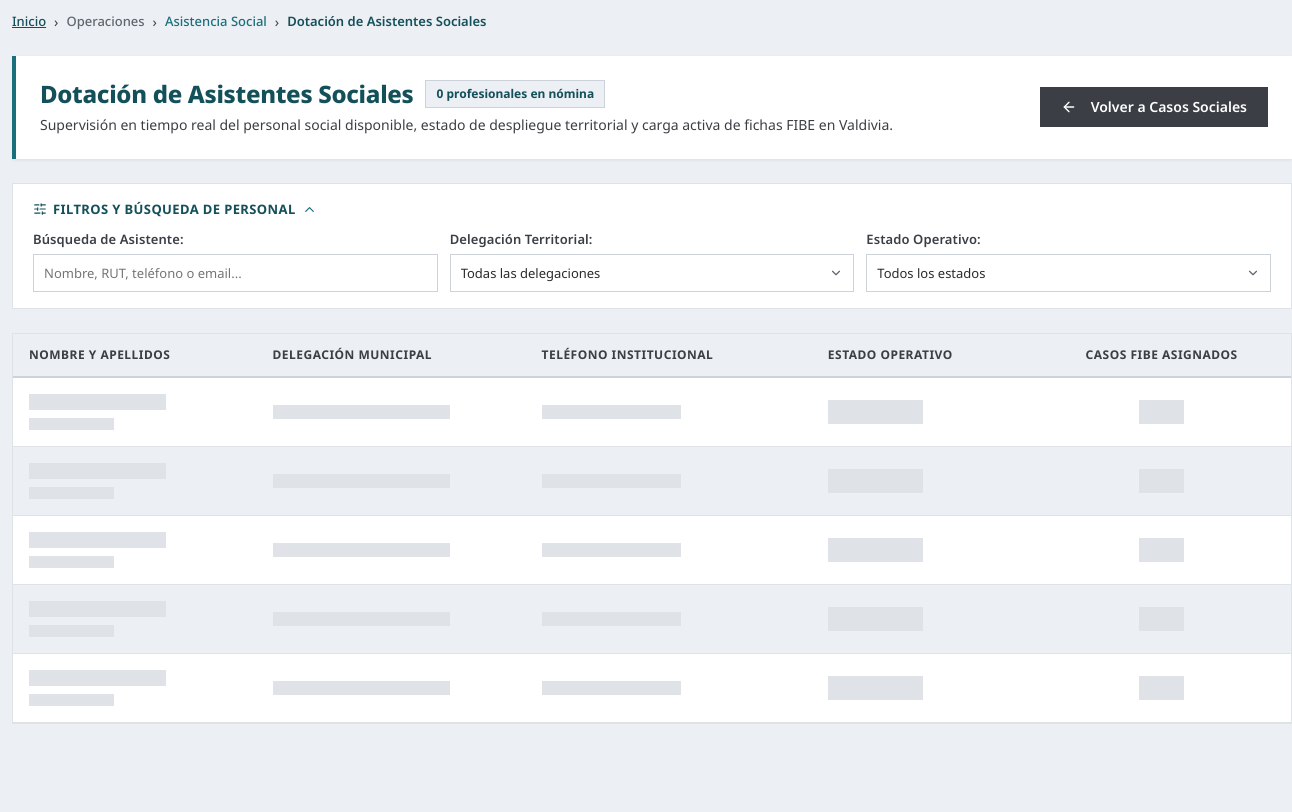
Test: AsistentesSocialesClient › debe mostrar EmptyState con opción de restablecer filtros si no hay coincidencias con filtros
The image size is (1292, 812).
# Aplicar búsqueda
Type "Inexistente" into the field with placeholder "Nombre, RUT, teléfono o email..." at (235, 273), box [33,254,438,292]
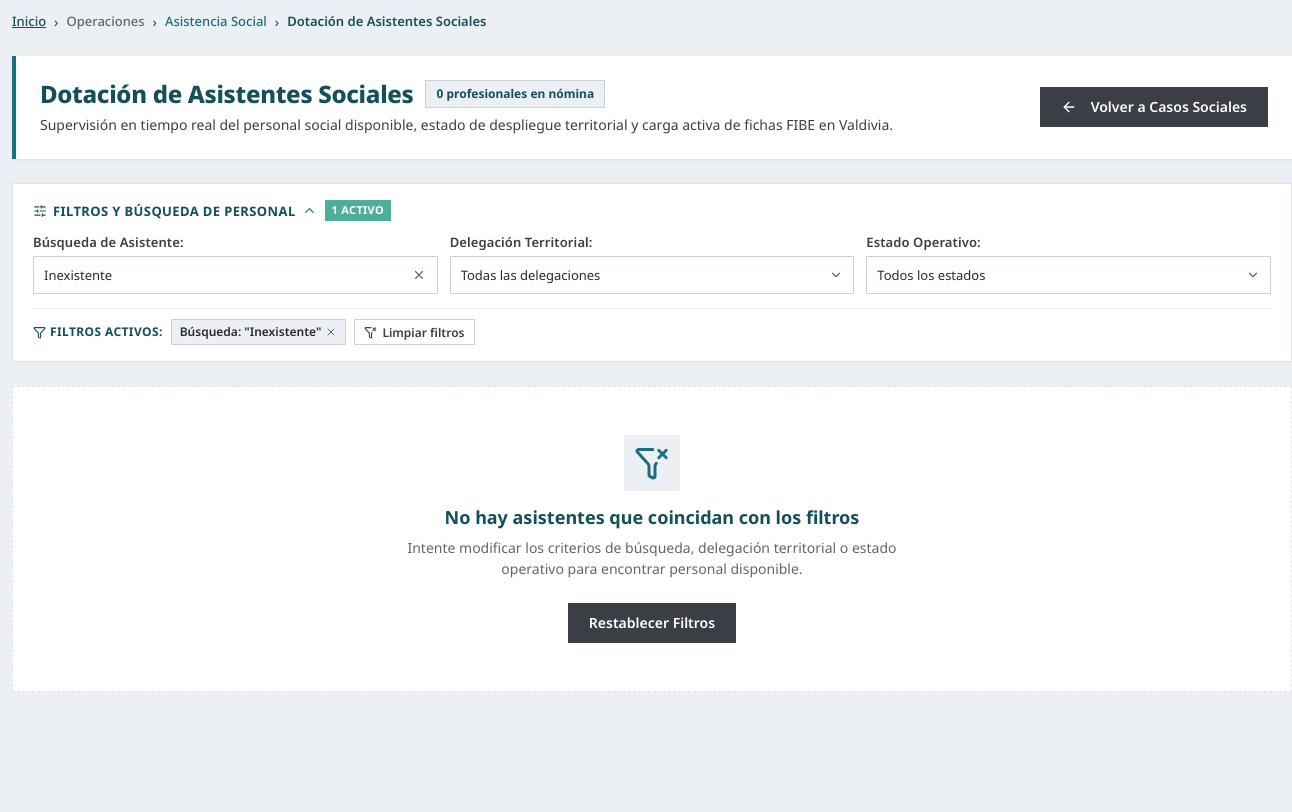
Expected: the heading "No hay asistentes que coincidan con los filtros" is shown, [445,507,859,529]
Expected: the button "Restablecer Filtros" is shown, [568,603,736,643]
